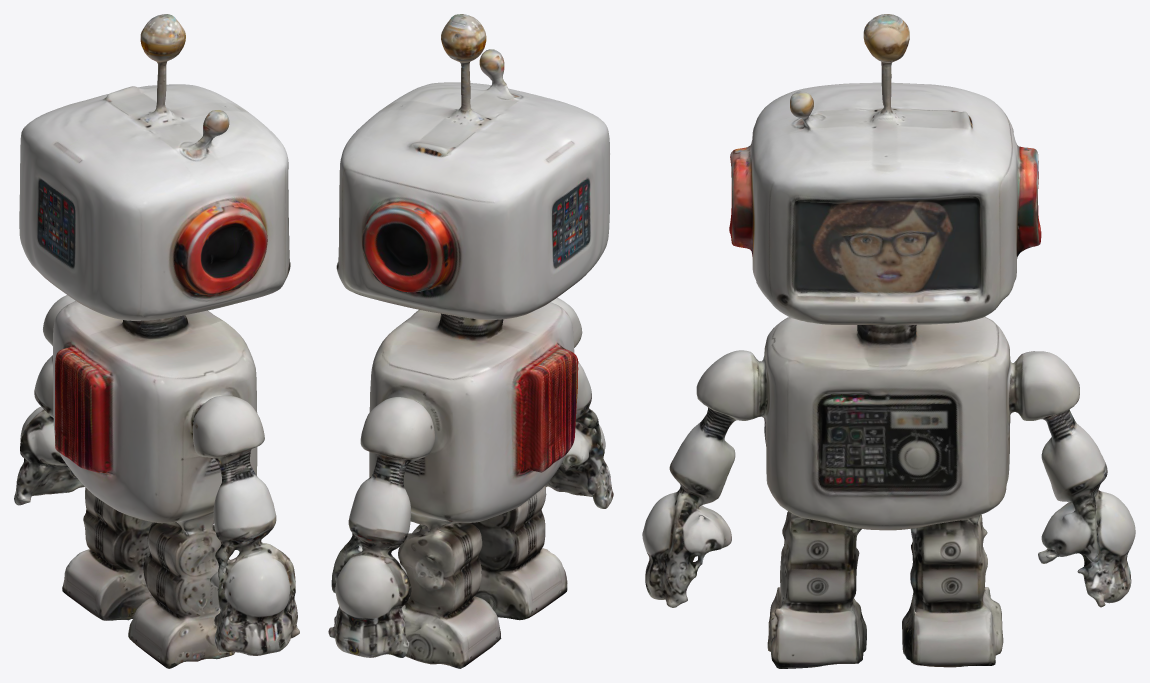
The model's file is asset.glb.
3 renders of one model, left to right at view 1: azimuth 30°, elevation 25°; view 2: azimuth 150°, elevation 25°; view 3: azimuth 270°, elevation 25°, orthographic. The views are drawn at different scales.
Parts seen in each view (by area): view 1: tripo_node_582ba35d-ec75-4b27-8bae-f4a250b8e782; view 2: tripo_node_582ba35d-ec75-4b27-8bae-f4a250b8e782; view 3: tripo_node_582ba35d-ec75-4b27-8bae-f4a250b8e782.
Part boxes in pixels (x1=…): tripo_node_582ba35d-ec75-4b27-8bae-f4a250b8e782: x1=14, y1=14, x2=299, y2=668; tripo_node_582ba35d-ec75-4b27-8bae-f4a250b8e782: x1=328, y1=14, x2=613, y2=668; tripo_node_582ba35d-ec75-4b27-8bae-f4a250b8e782: x1=642, y1=14, x2=1135, y2=668.
Bounding box in the file's own units: 0.294 × 0.8672 × 0.612.
Materials: 1 (1 with a texture image).
